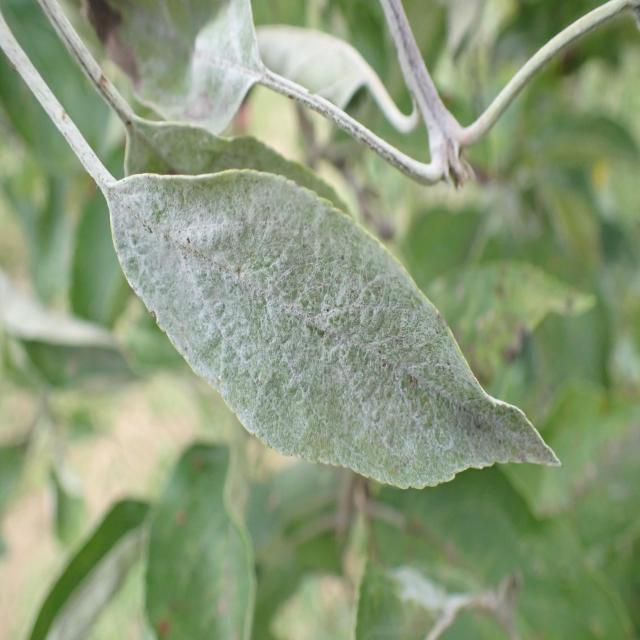Powdery_mildew: (83, 153, 565, 491), (22, 0, 300, 125)
